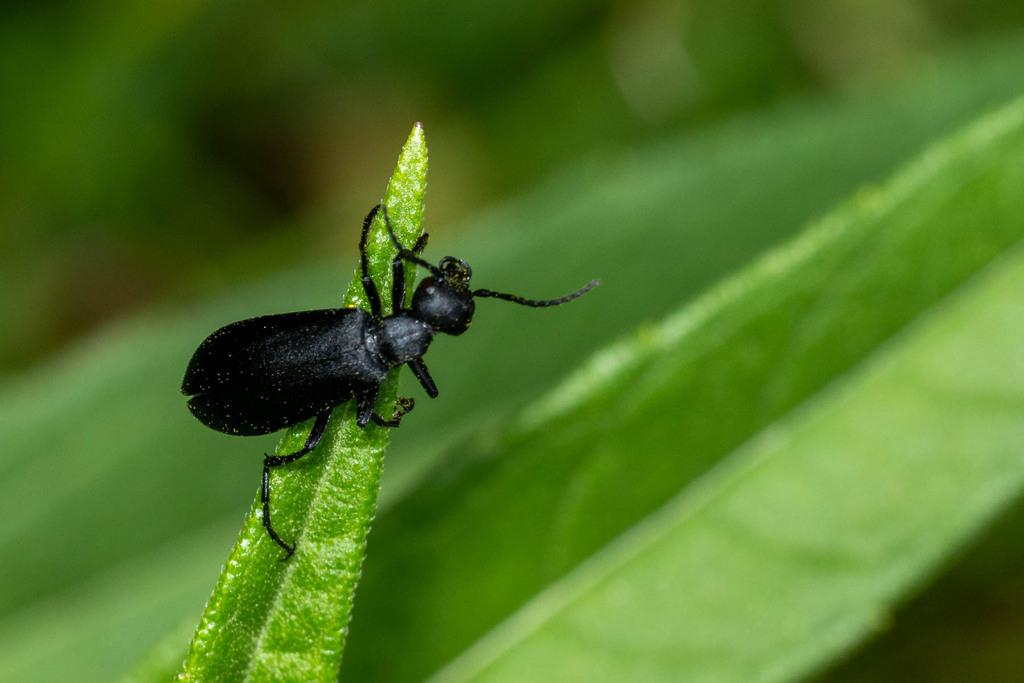blister_beetle: (121, 155, 651, 585)
